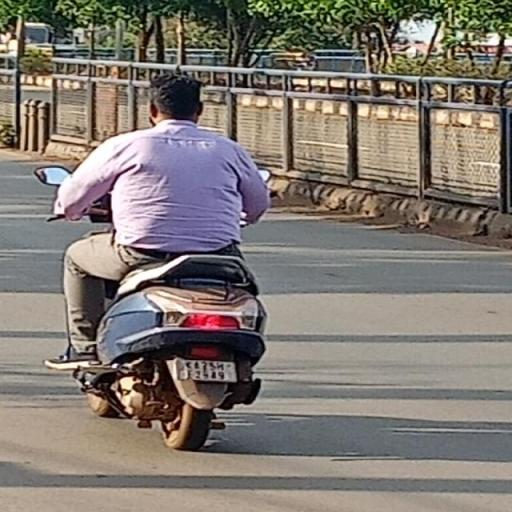bike: (33, 72, 294, 452)
withouthelmet: (148, 76, 203, 122)
